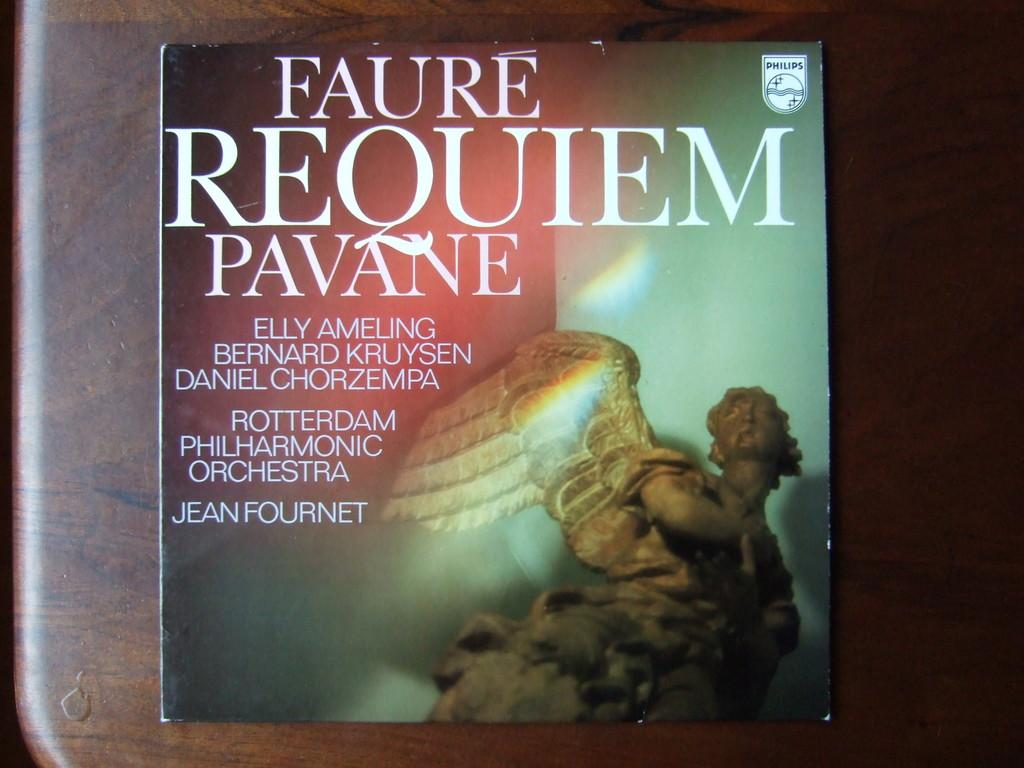book: (163, 45, 847, 735)
